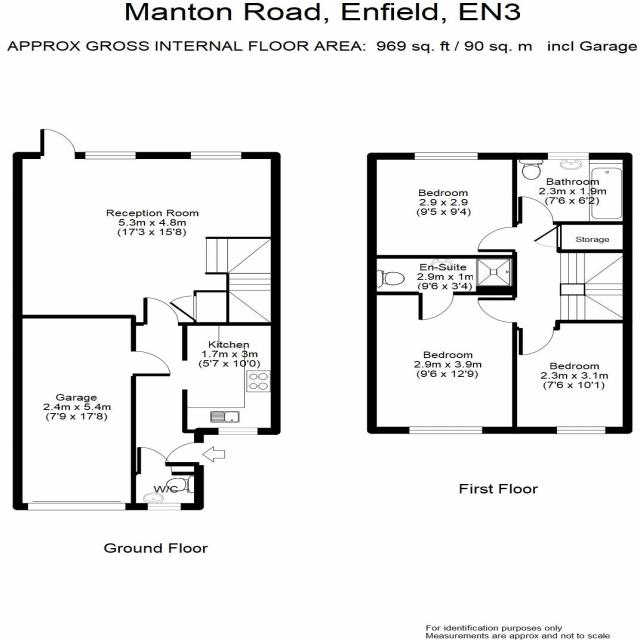DOOR: (517, 324, 561, 358), (129, 348, 177, 379), (471, 221, 515, 254), (416, 291, 460, 323), (473, 296, 518, 327), (516, 193, 558, 226), (40, 126, 78, 159), (136, 445, 176, 476), (143, 295, 182, 326), (162, 440, 205, 467)
ROOM: (11, 121, 282, 326), (131, 292, 281, 476), (366, 291, 518, 435), (367, 152, 516, 259), (512, 319, 633, 434)
WINDOW: (26, 500, 128, 513), (405, 423, 485, 437), (411, 150, 481, 163), (188, 148, 244, 161), (553, 424, 608, 437), (83, 150, 138, 161), (545, 150, 591, 161), (216, 426, 260, 437), (143, 502, 184, 512)
